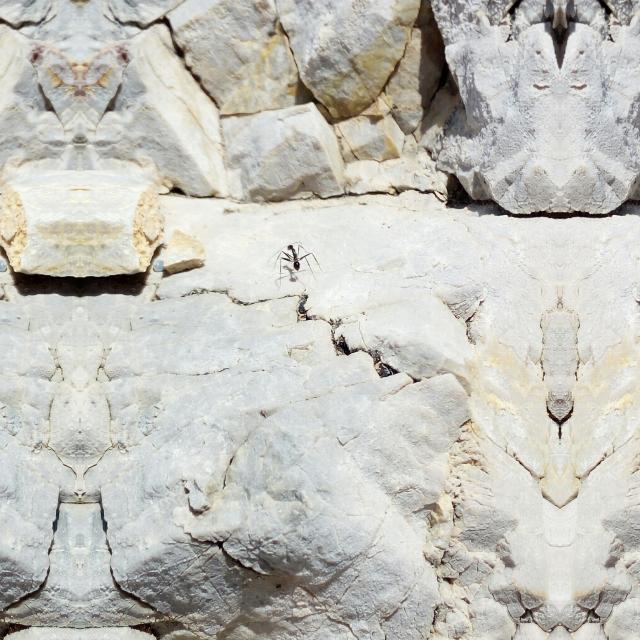Apheanogaster: (270, 241, 320, 277)
